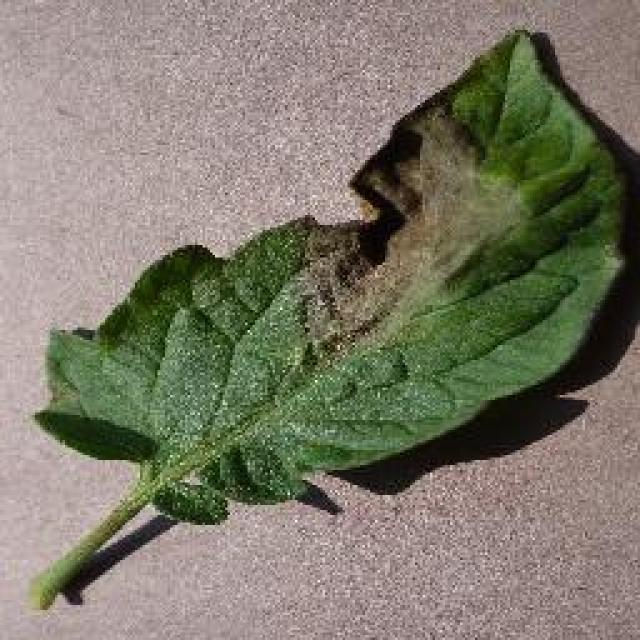Tomato Late Blight: (280, 157, 483, 360)
